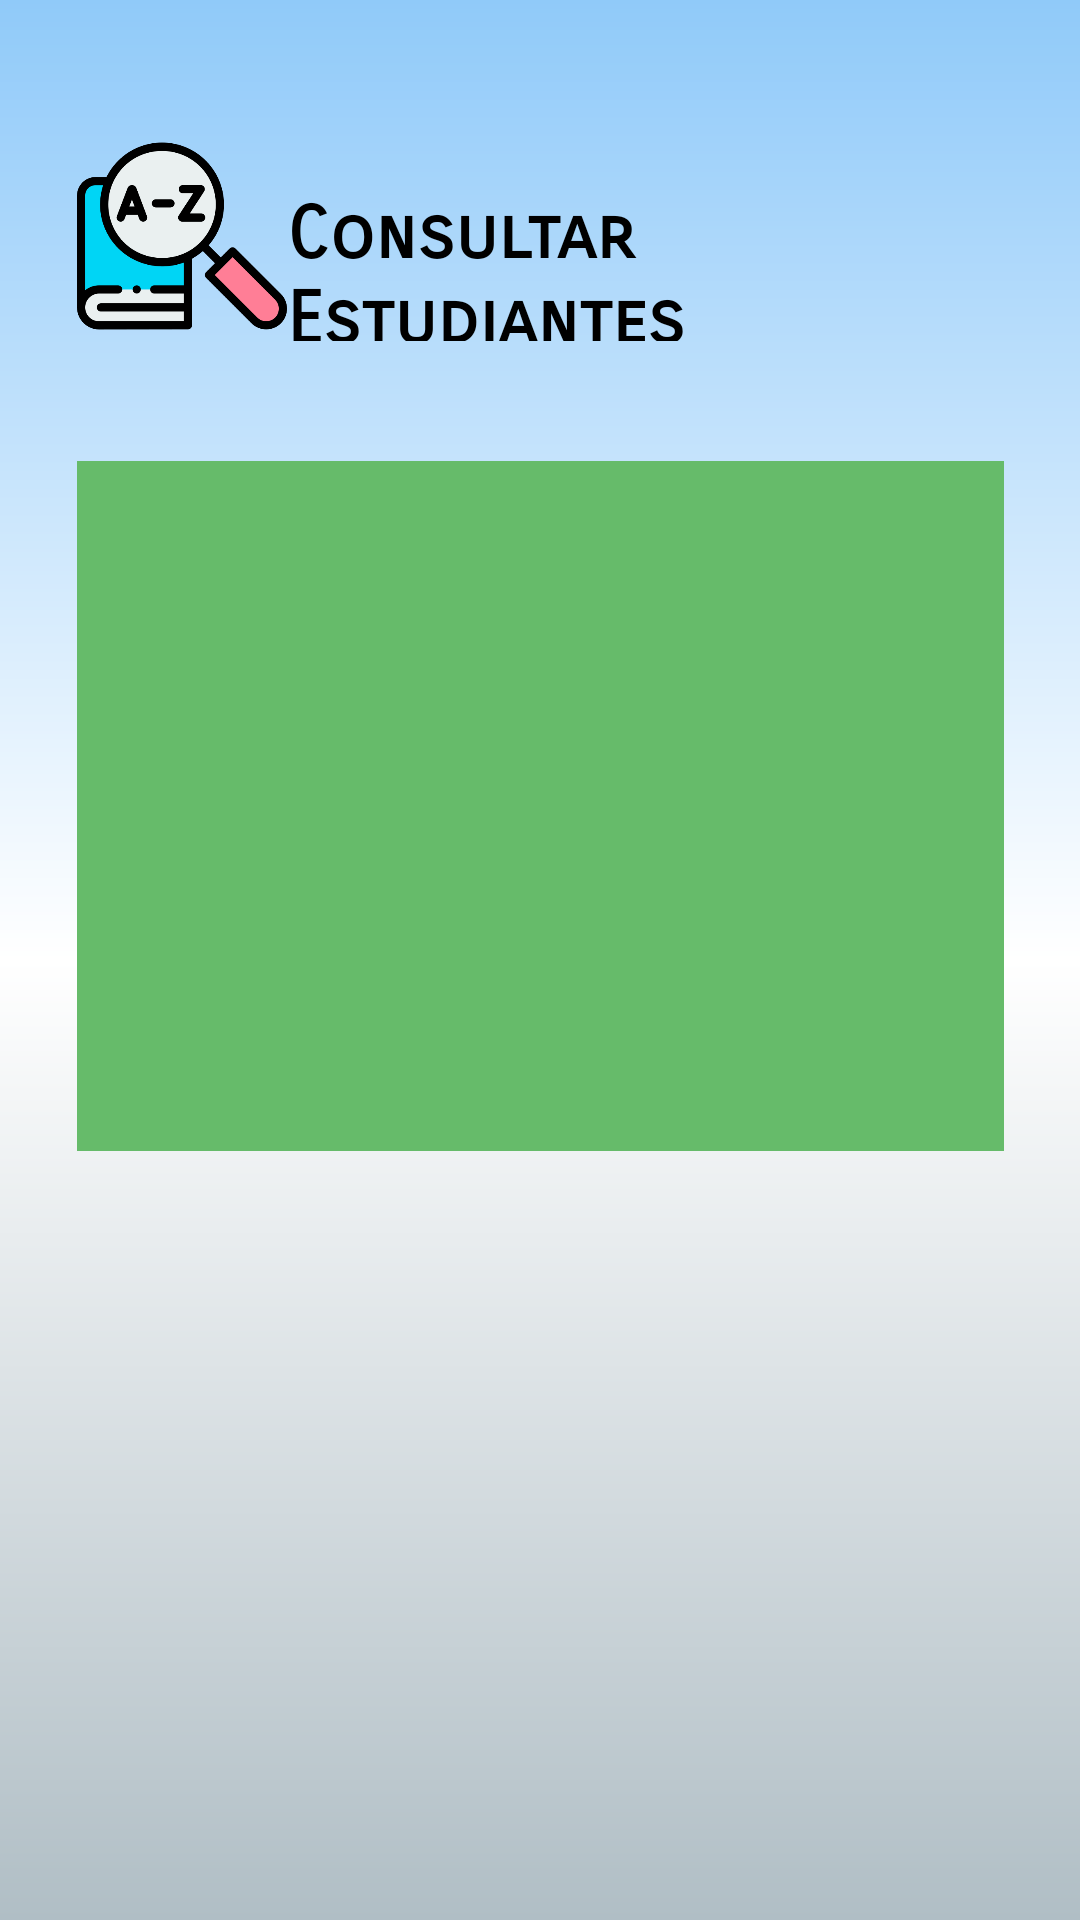

Icons on this 1080w x 1920h Android screen, each with its box as bbox=[x1, y1, x2, y2]:
buscar: bbox=[77, 142, 287, 330]
